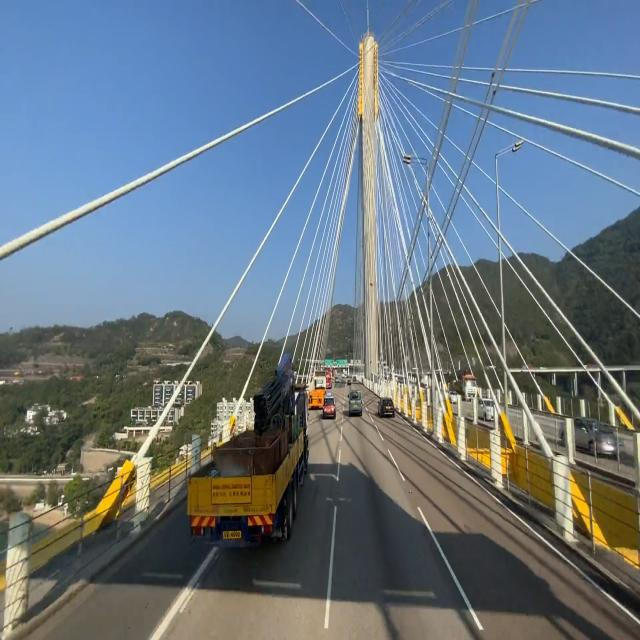Car: (188, 357, 308, 559), (376, 390, 396, 425), (347, 387, 366, 421), (322, 392, 337, 421)
